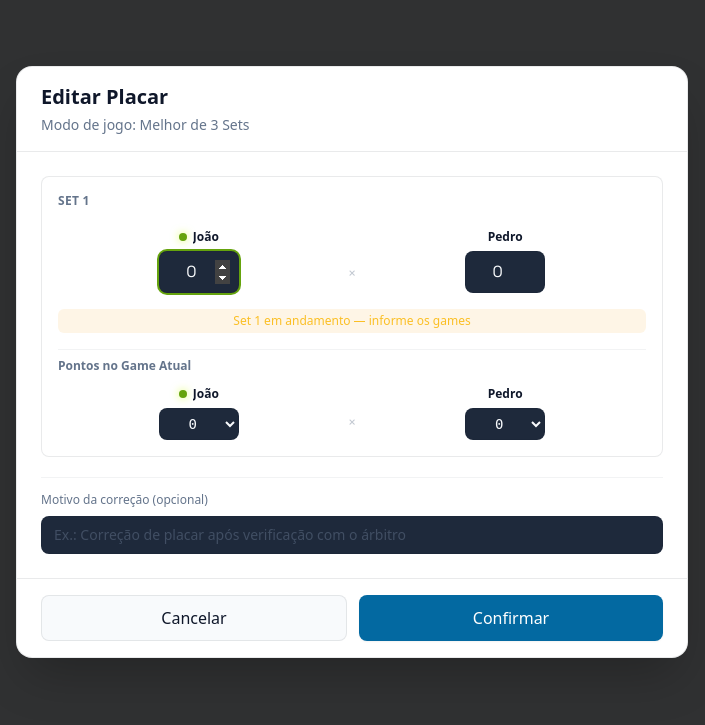
it: EditScoreModal - Confirmar Set Button › Confirmar Set button on complete score › should add set and clear inputs when clicking Confirmar Set
Type "6" into the number field with placeholder "0".
click(199, 272); type("6")  # box [159, 251, 239, 293]
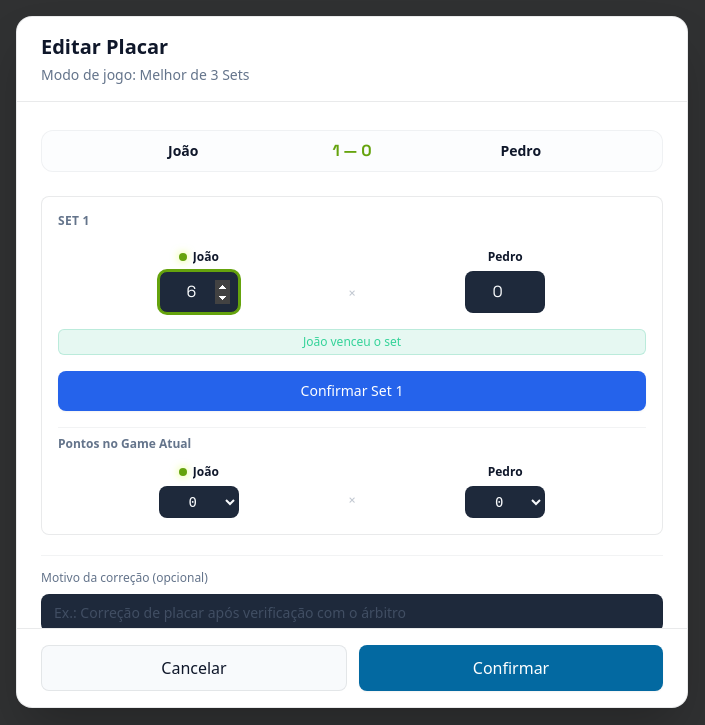
Clear the number field with placeholder "0" at coordinates (505, 292), box [465, 271, 545, 313]
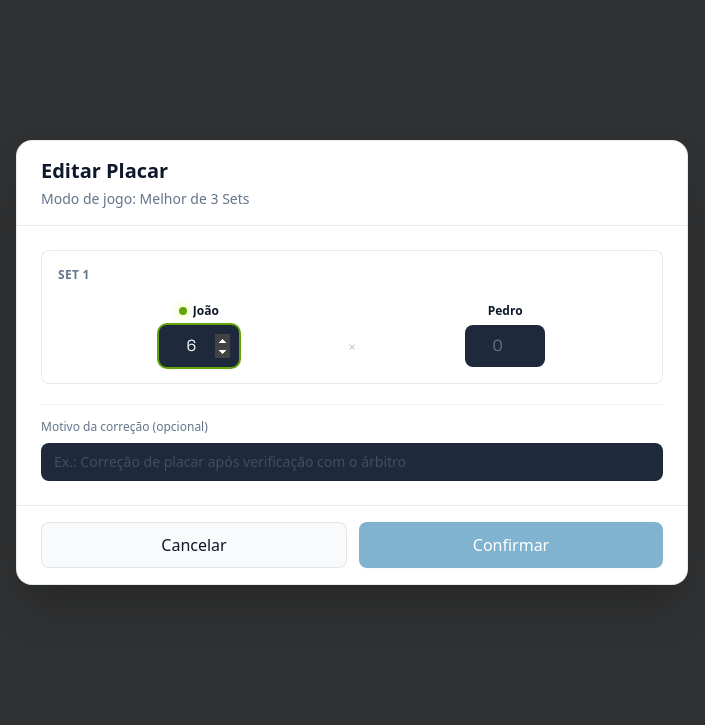
Type "2" into the number field with placeholder "0".
click(505, 346); type("2")  # box [465, 324, 545, 366]
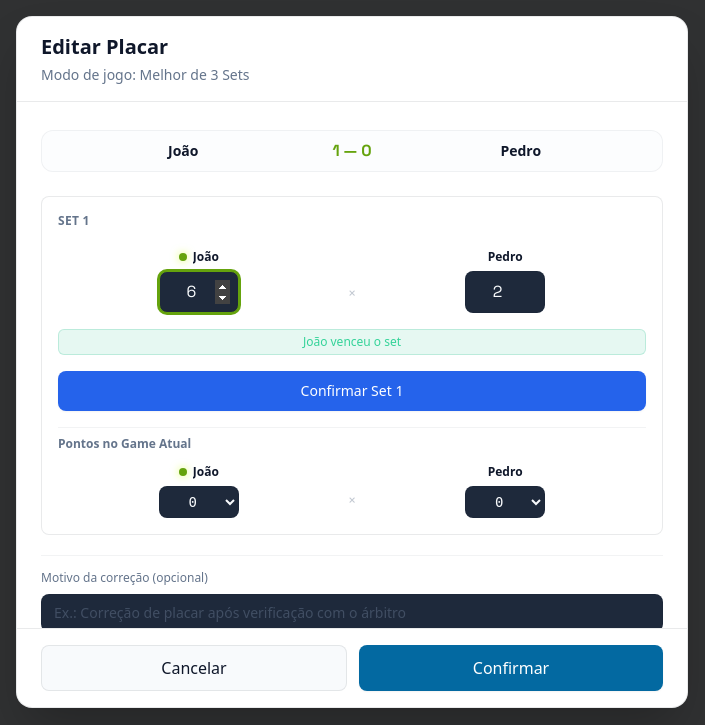
Click the button "Confirmar Set 1".
click(352, 391)  # box [58, 371, 646, 411]
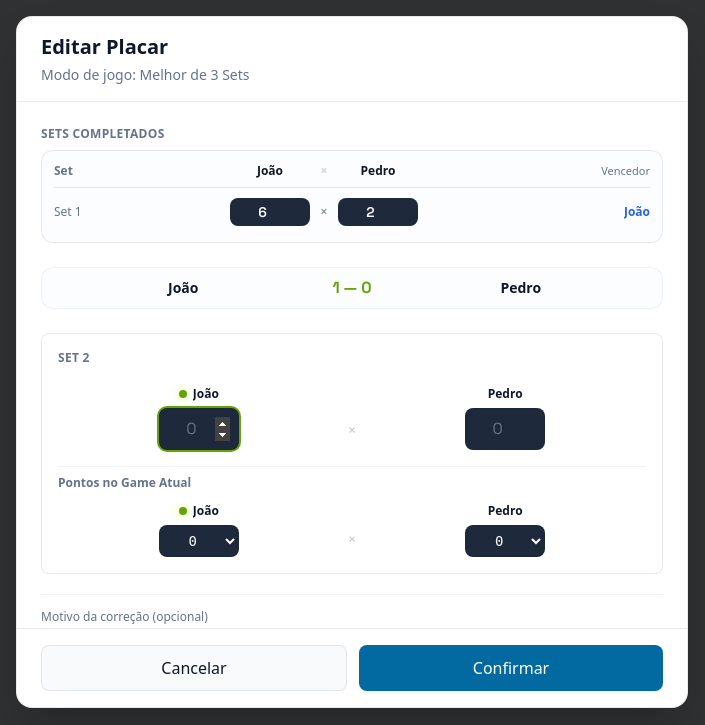
Now the text "Sets Completados" is shown, box [41, 125, 165, 142]
Now the text "Set 2" is shown, box [58, 349, 90, 366]
